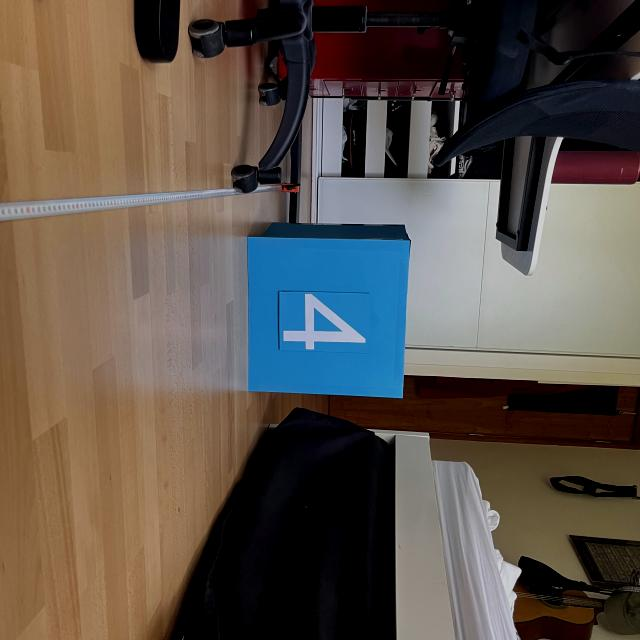box: (242, 218, 413, 400)
